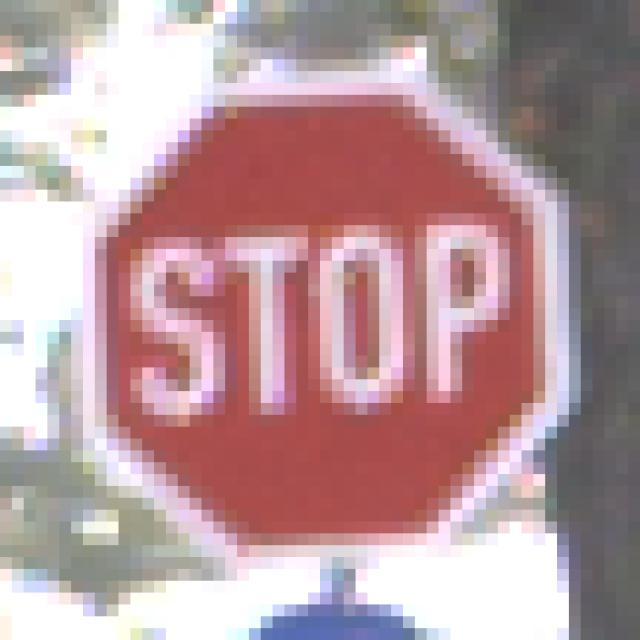STOP: (60, 60, 582, 582)
